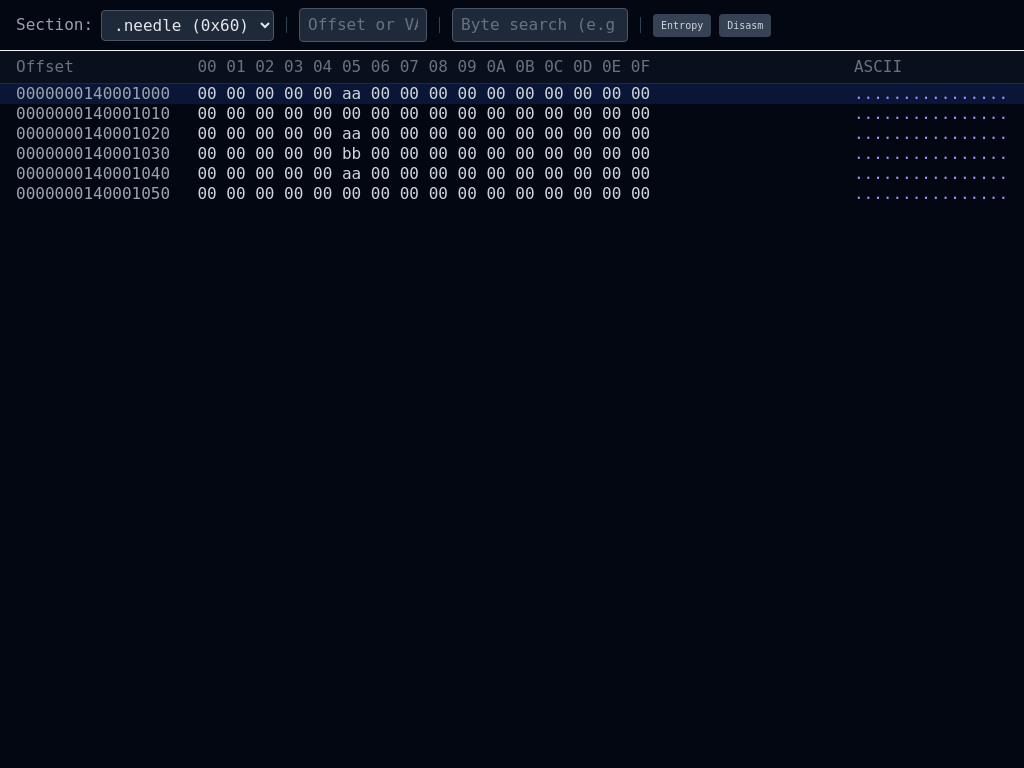
Test: HexView byte search navigation › starts a fresh list unpositioned when the query changes
Type "AA" into the field with placeholder "Byte search (e.g. 4D 5A ?? 00)...".
click(540, 25); type("AA")  # box x1=452 y1=8 x2=628 y2=42
Wait 150 ms
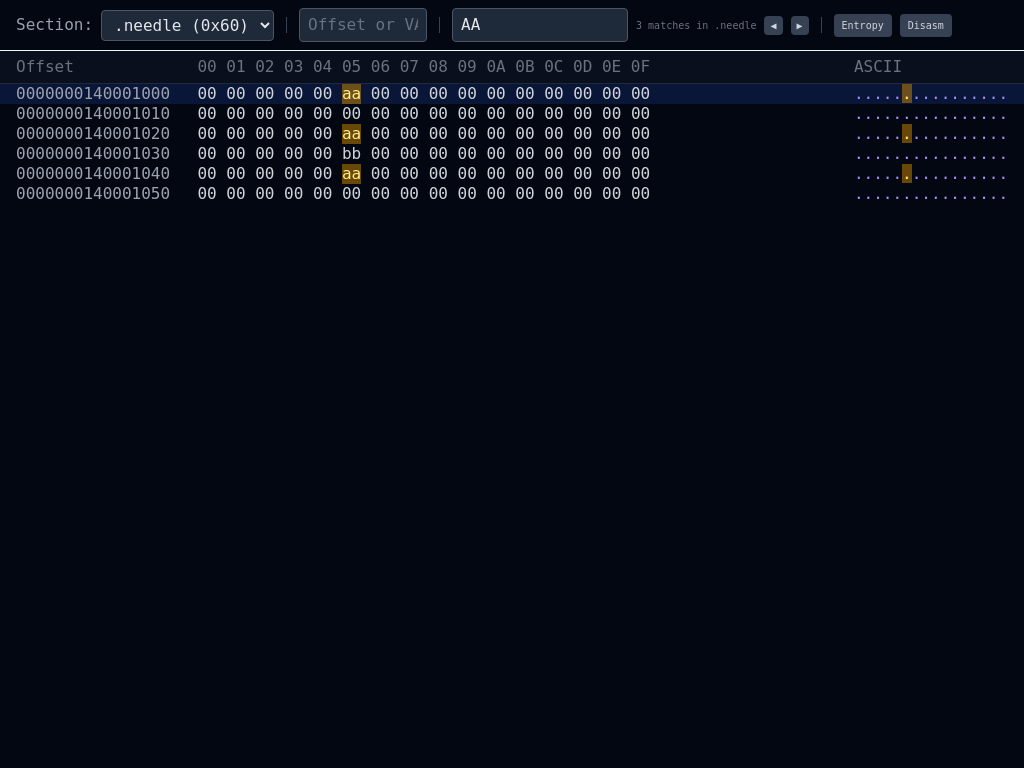
Click the button named "Next match".
click(800, 25)  # box x1=790 y1=16 x2=808 y2=34
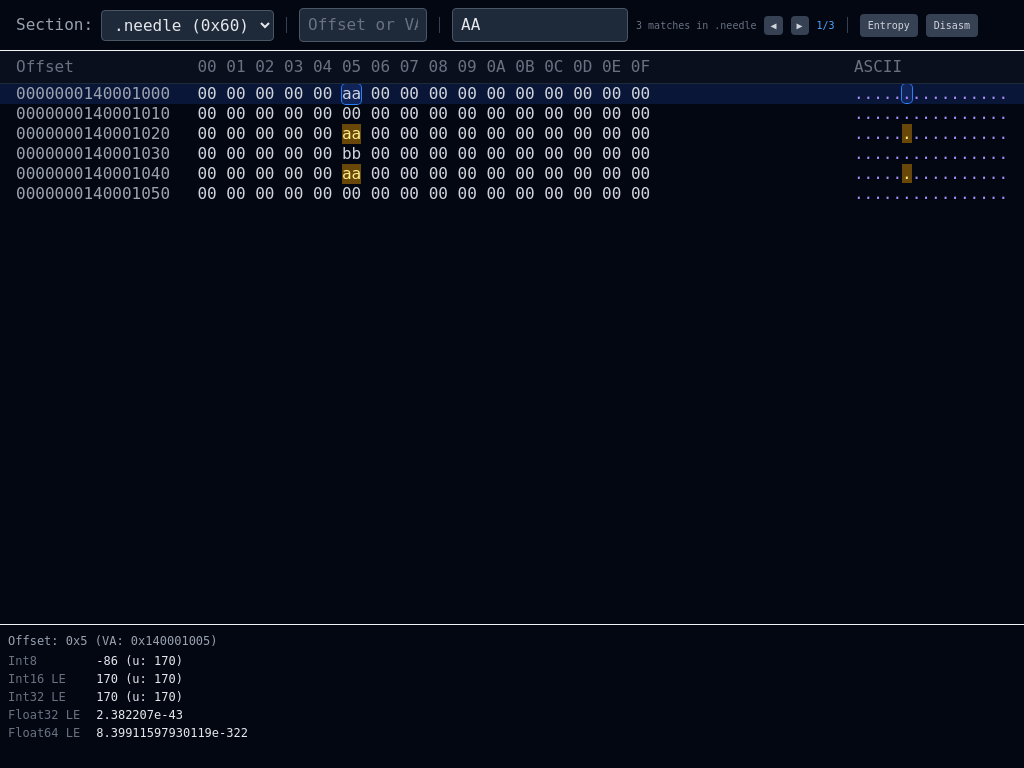
Now the text "1/3" is shown, box x1=816 y1=18 x2=835 y2=32
Replace the text in the field with placeholder "Byte search (e.g. 4D 5A ?? 00)..." with "BB" at (540, 25), box x1=452 y1=8 x2=628 y2=42
Wait 150 ms
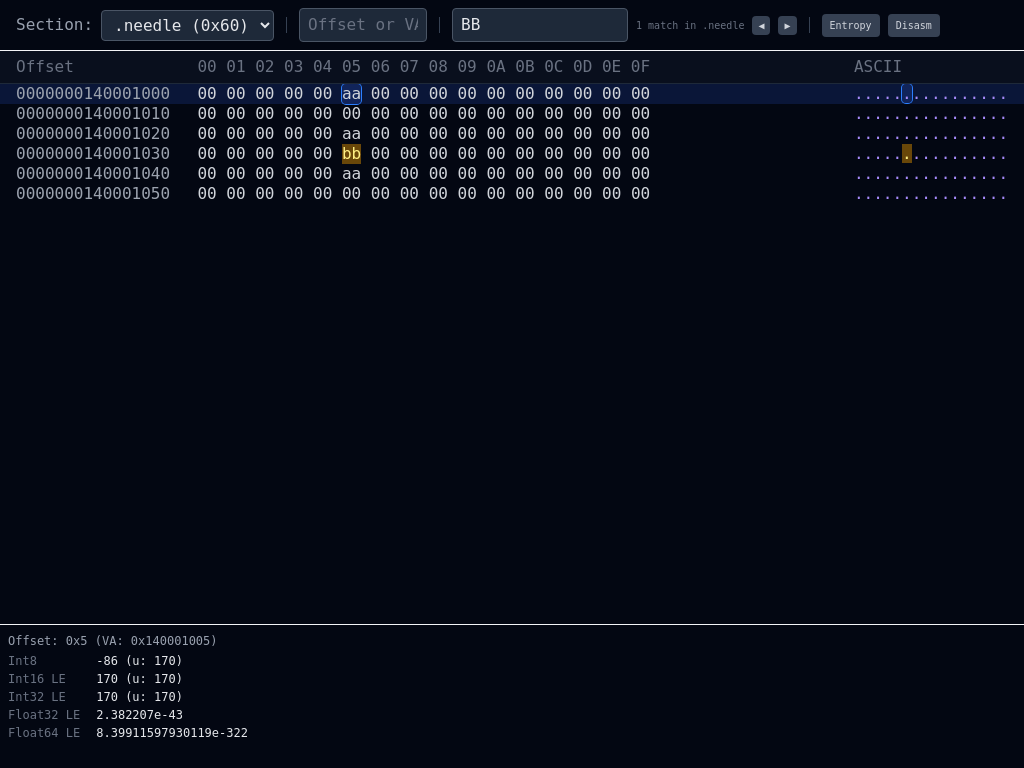
Now the text "1 match in .needle" is shown, box x1=636 y1=18 x2=744 y2=32
Now the text "1/3" is gone
